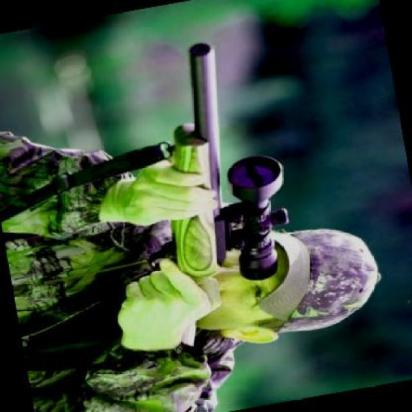Gun: (83, 31, 312, 317)
